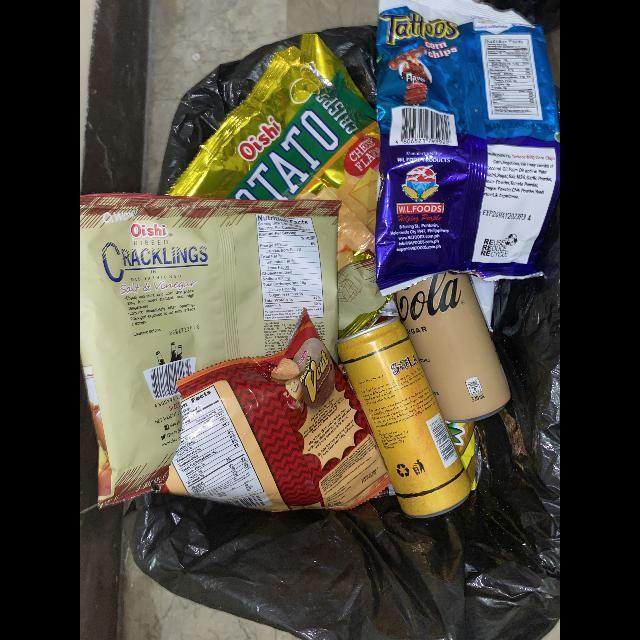aluminum: (336, 319, 471, 518), (392, 271, 512, 424)
food_wrapper: (80, 193, 387, 505), (375, 0, 560, 297), (167, 33, 380, 272), (165, 308, 395, 513)
